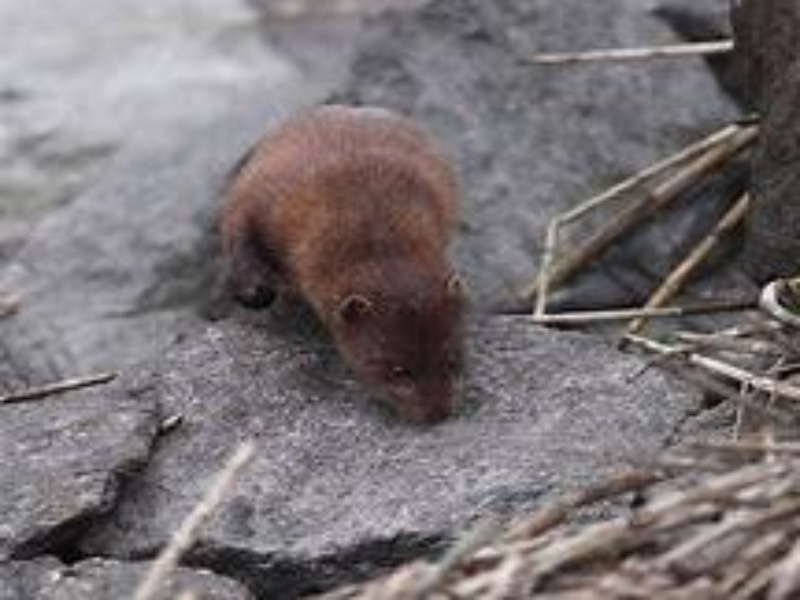minkish: (216, 103, 474, 430)
